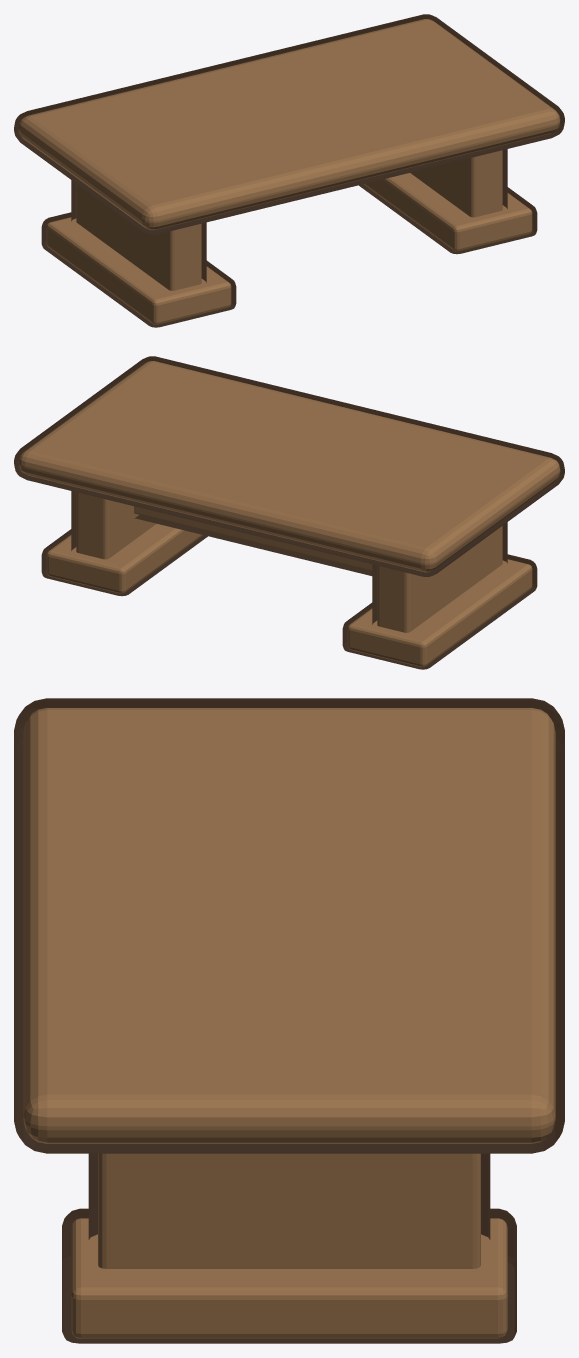
File: teahouse-desk.glb
The picture shows the model from 3 angles, top to bottom: view 1: azimuth 30°, elevation 25°; view 2: azimuth 150°, elevation 25°; view 3: azimuth 270°, elevation 25°; orthographic projection. The views are drawn at different scales.
Parts seen in each view (by area): view 1: teahouse-desk, teahouse-desk-outline; view 2: teahouse-desk, teahouse-desk-outline; view 3: teahouse-desk, teahouse-desk-outline.
Part boxes in pixels (x1,y1,x2,y2): teahouse-desk: (18,19,560,325); teahouse-desk-outline: (14,14,564,327); teahouse-desk: (18,361,560,667); teahouse-desk-outline: (14,356,564,669); teahouse-desk: (23,708,555,1338); teahouse-desk-outline: (14,698,564,1343).
Size of the model in its own units: 1.84 by 0.5485 by 1.04.
